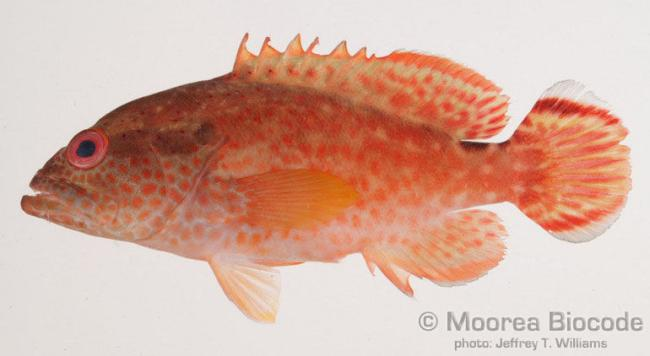fish: (18, 34, 634, 324)
